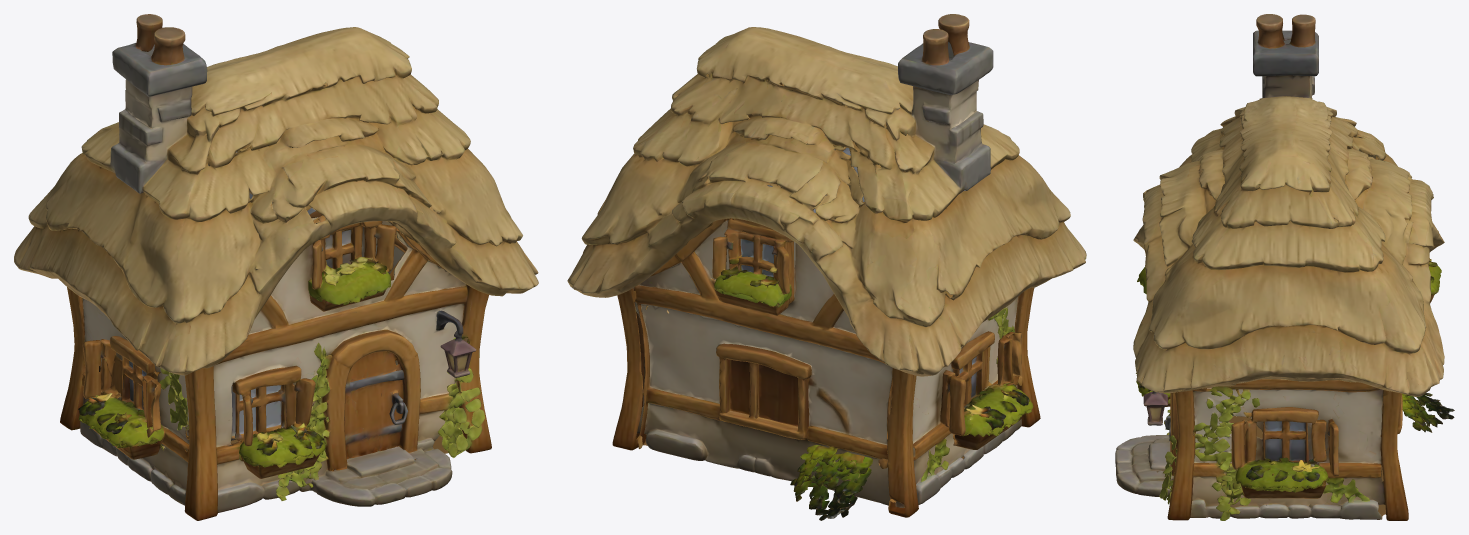
Rendered from original.glb.
3 views of the same model, side by side, from view 1: azimuth 30°, elevation 25°; view 2: azimuth 150°, elevation 25°; view 3: azimuth 270°, elevation 25° (orthographic). The views are drawn at different scales.
Visible parts, largest first — view 1: world; view 2: world; view 3: world.
Boxes of the visible parts, x1,y1,x2,y2 form: world: [14, 14, 538, 520]; world: [567, 14, 1086, 520]; world: [1115, 14, 1454, 520].
Bounding box in the file's own units: 0.9378 × 1 × 0.7942.
1 material, 1 textured.
